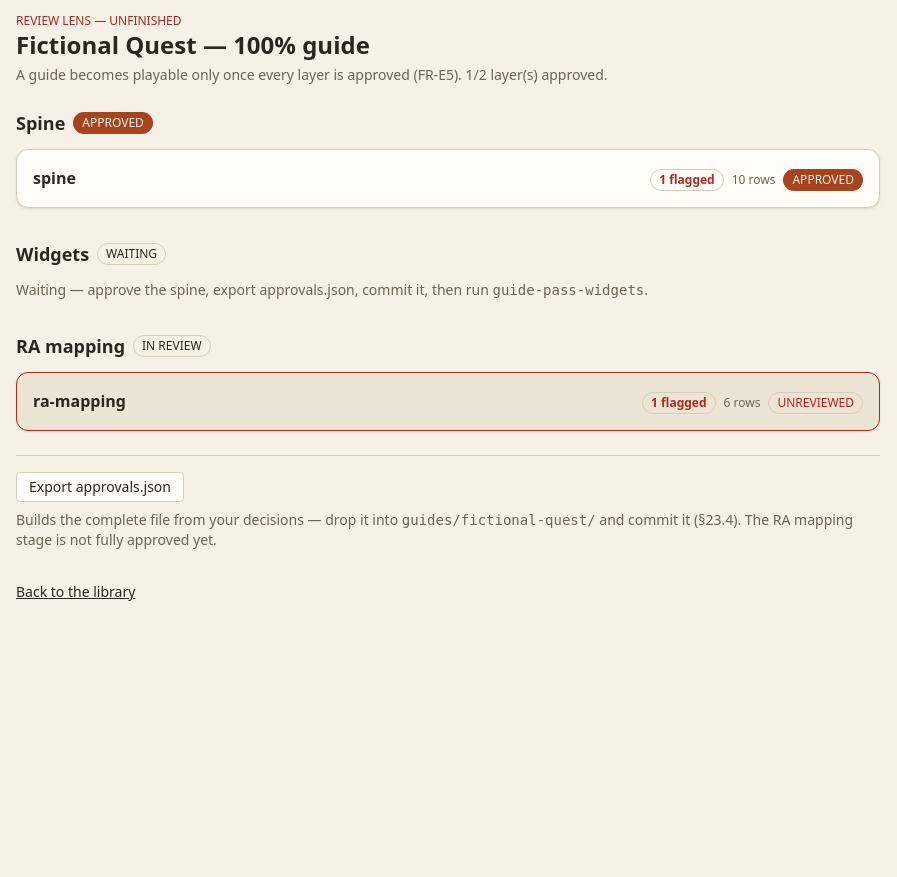
Test: review lens — flagged rows (FR-E2/E3) › badges a flagged ra-mapping row whose target is already approved (T6)
This screenshot has width=897, height=877.
Click the button "ra-mapping 1 flagged 6 rows Unreviewed".
click(79, 401)  # box 33,389 -> 863,414
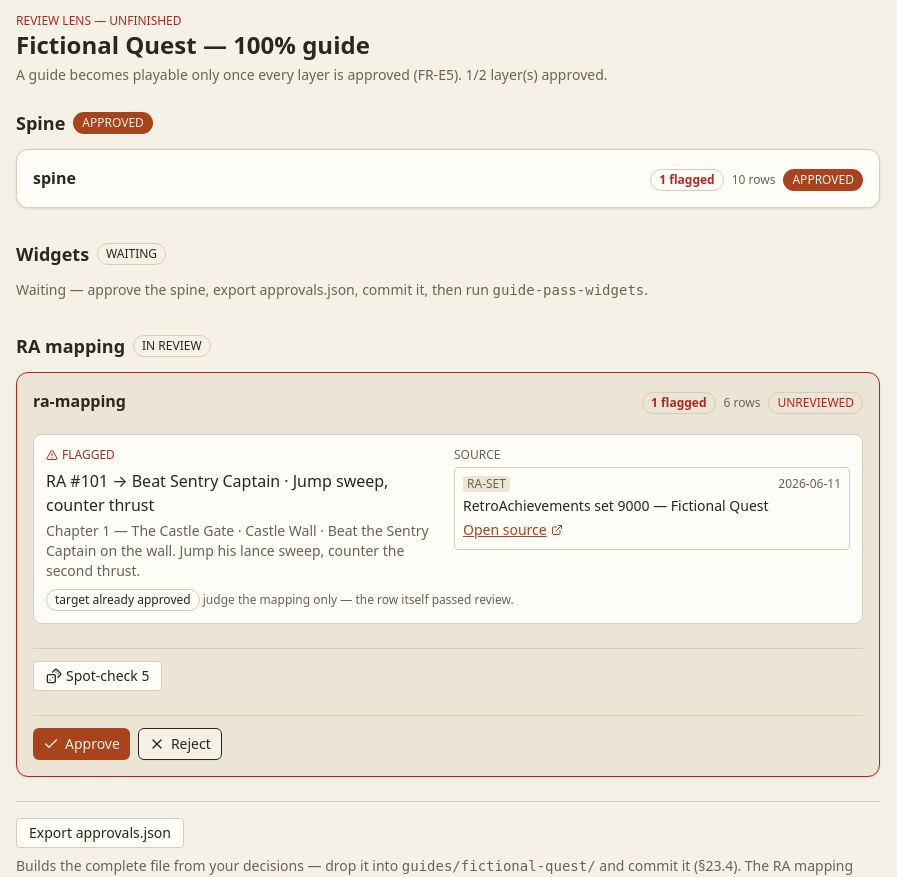
Now the text "RA #101 → Beat Sentry Captain · Jump sweep, counter thrust" is shown, box 46,469 -> 442,517
Now the text "target already approved" is shown, box 46,589 -> 200,611
